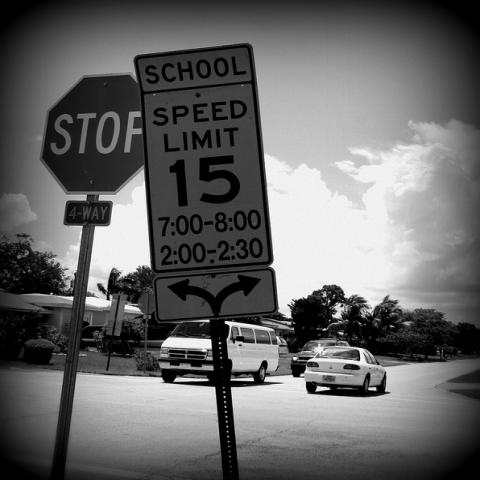car: (159, 320, 282, 385), (291, 341, 388, 396), (206, 320, 214, 371), (276, 336, 289, 355)
truck: (80, 326, 108, 350)
